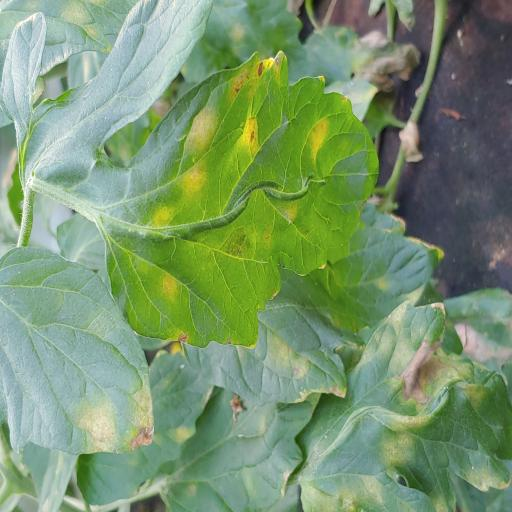disease_tomato: (0, 0, 381, 351), (0, 244, 155, 457)
